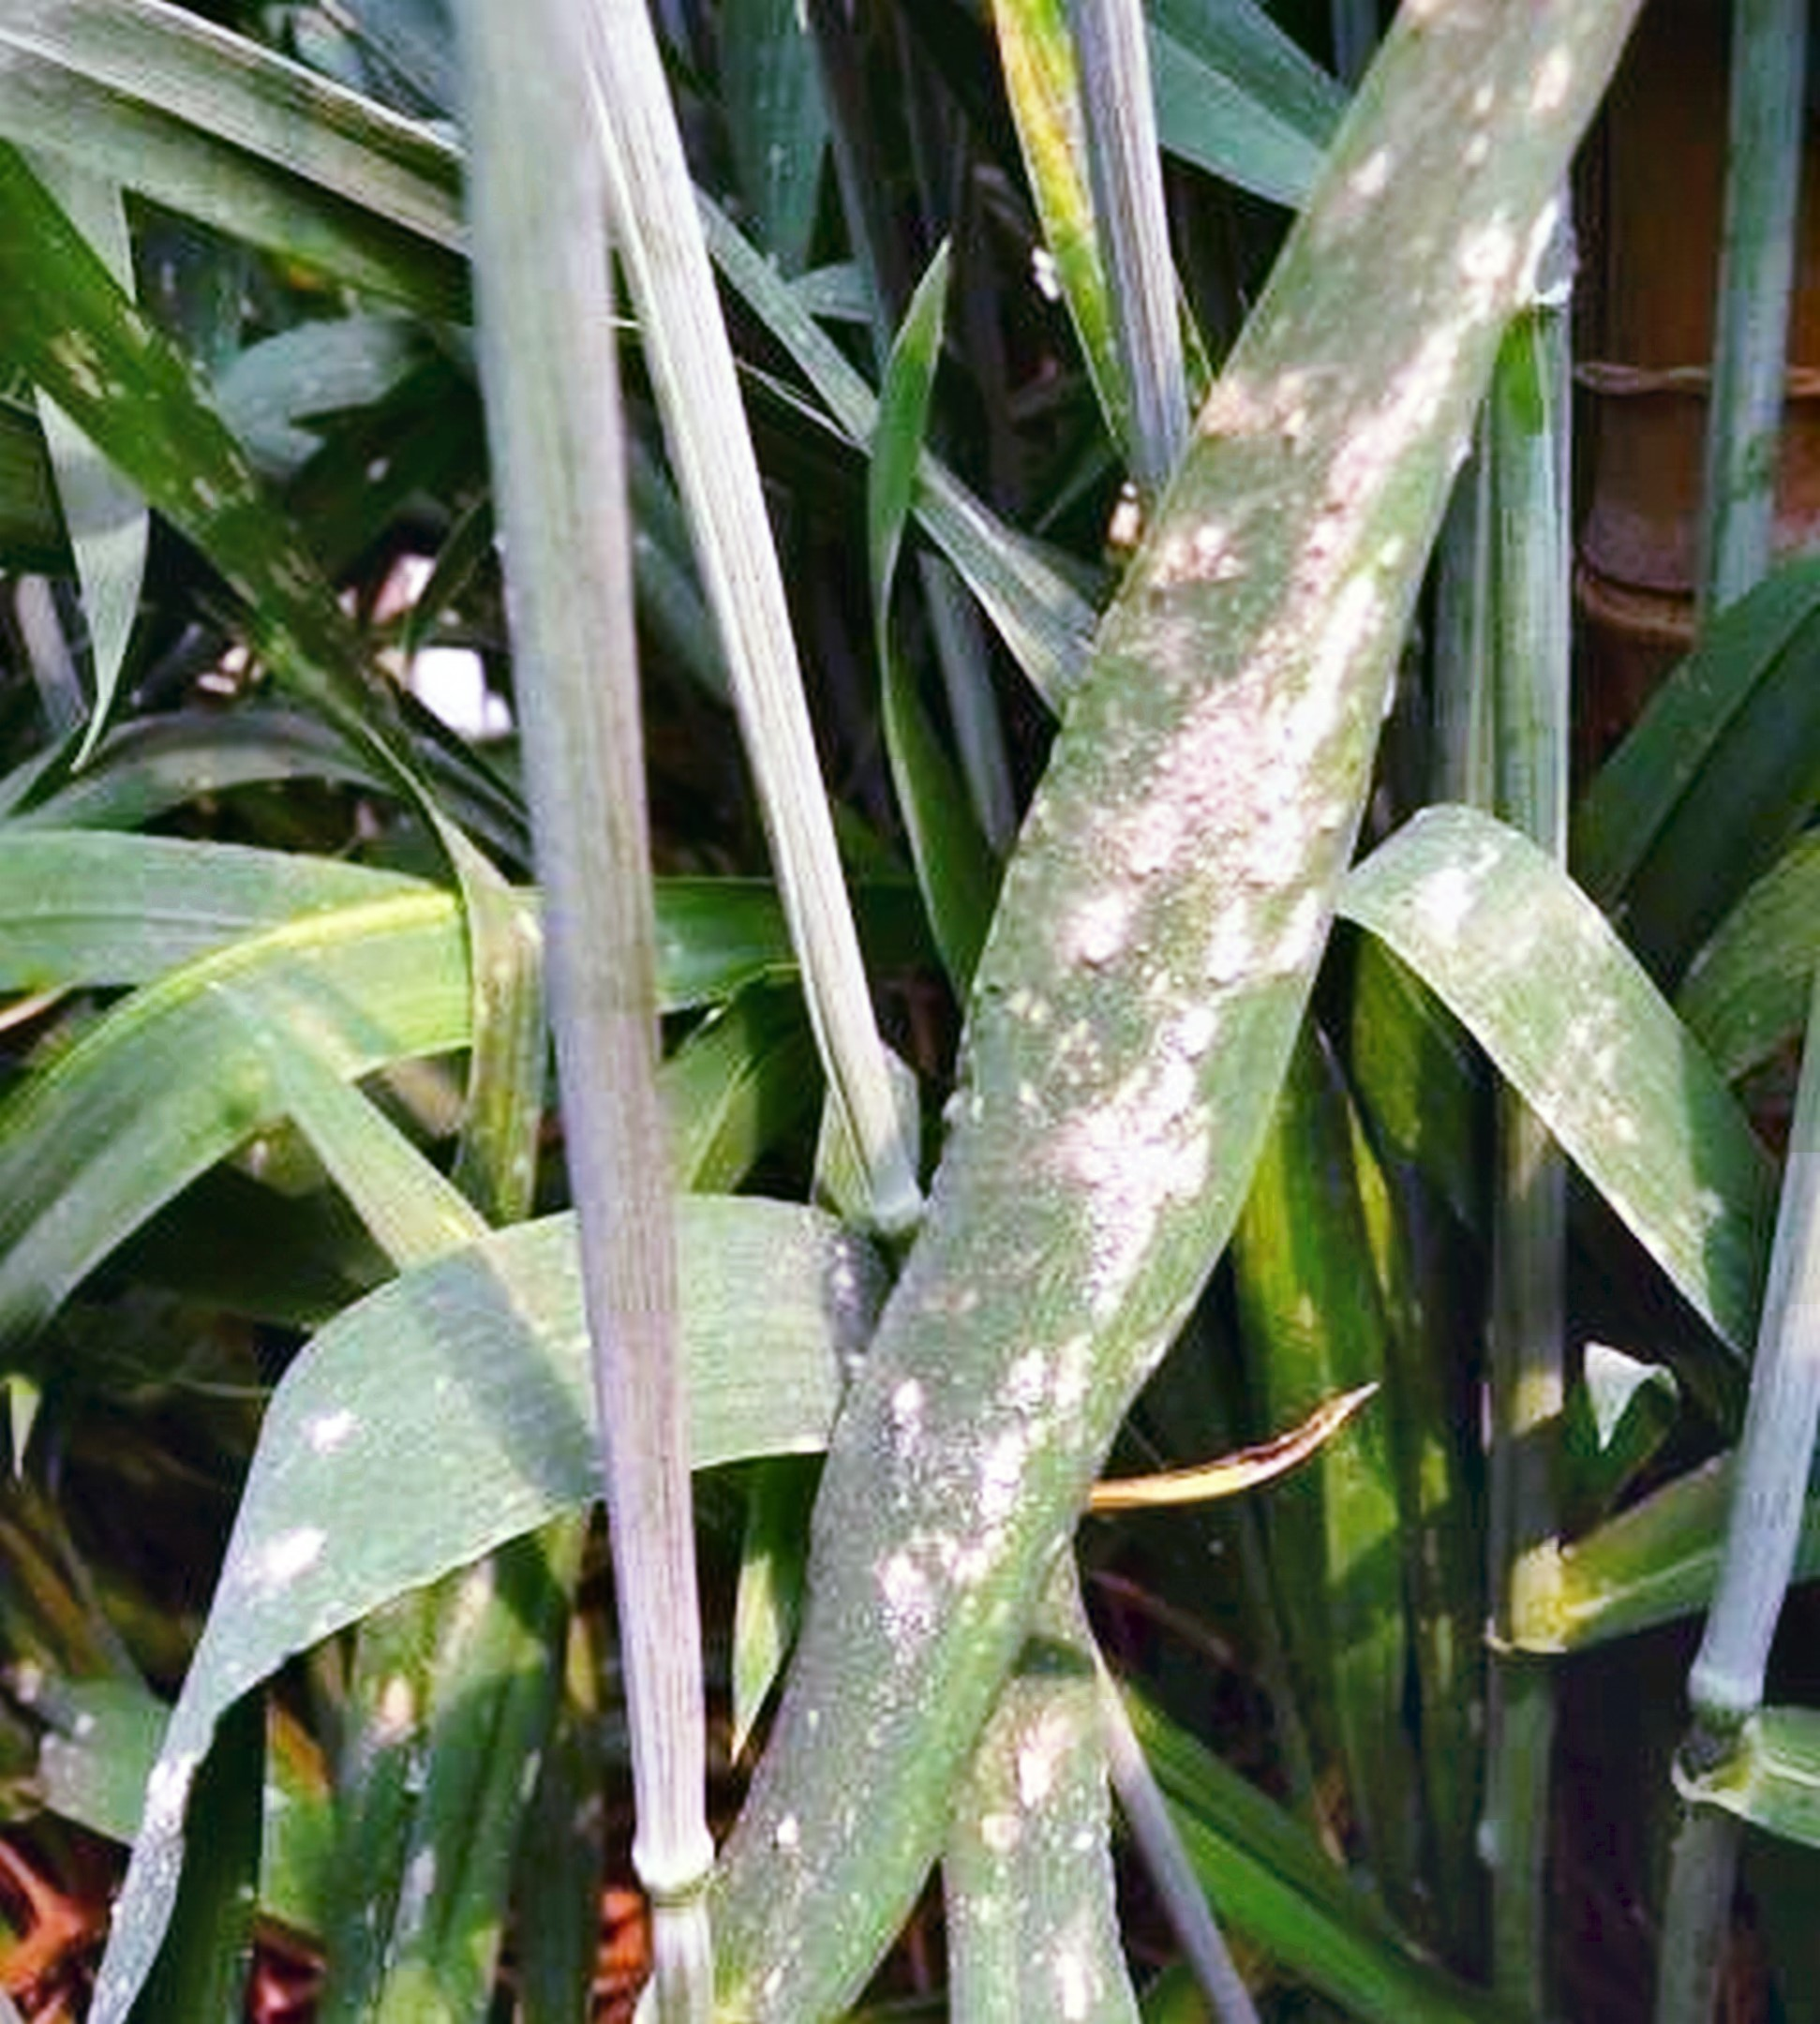Powdery Mildew: (789, 278, 1528, 1632)
